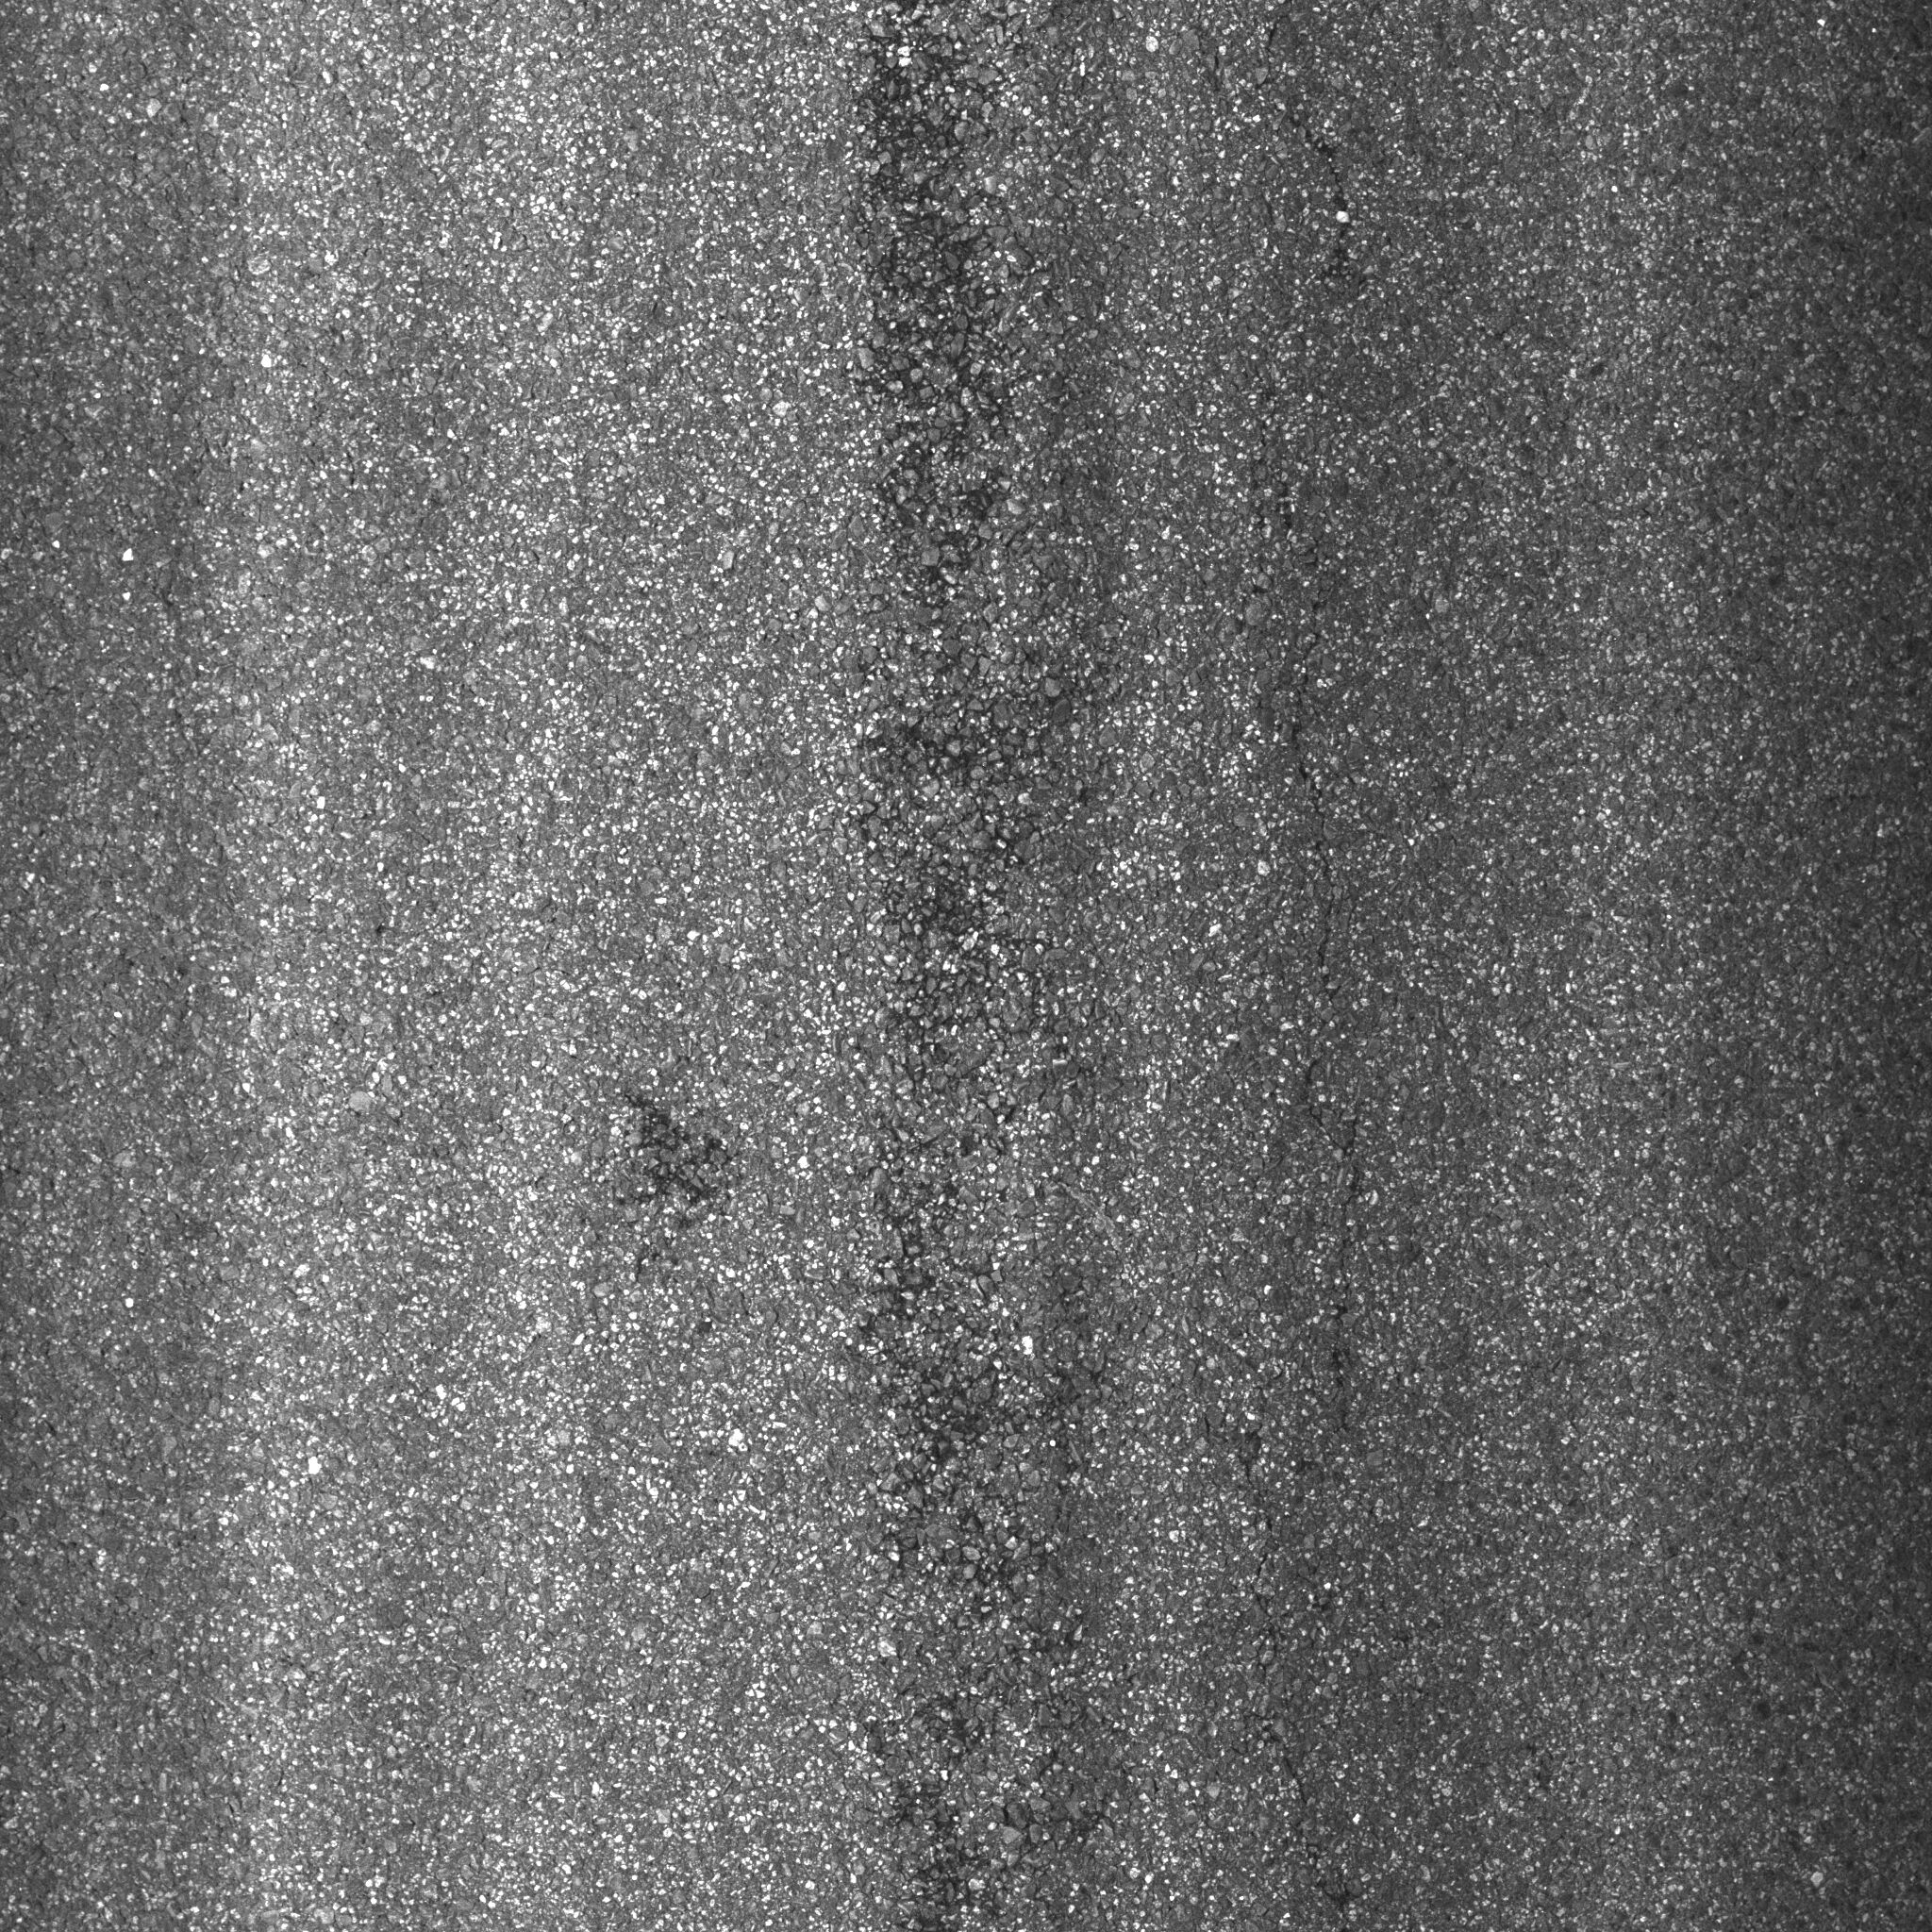longitudinal: (849, 12, 998, 1884), (1258, 617, 1371, 1031)
